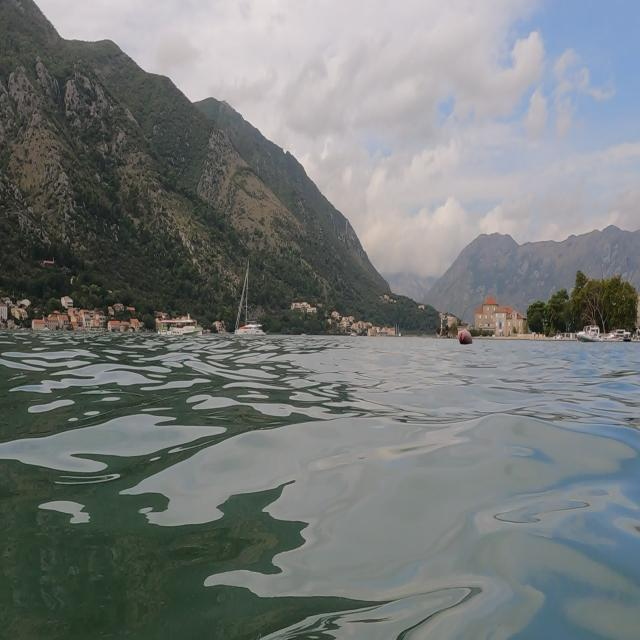boat: (233, 255, 264, 339)
buoy: (456, 321, 477, 353)
